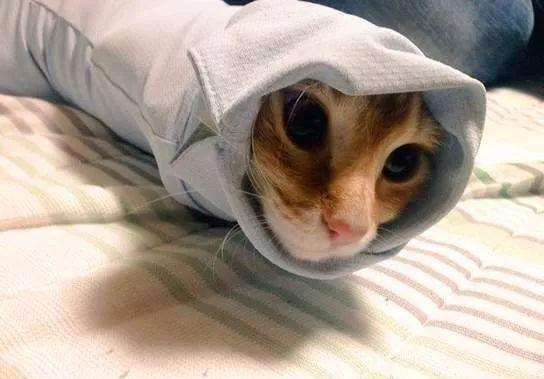cat: (235, 61, 451, 273)
